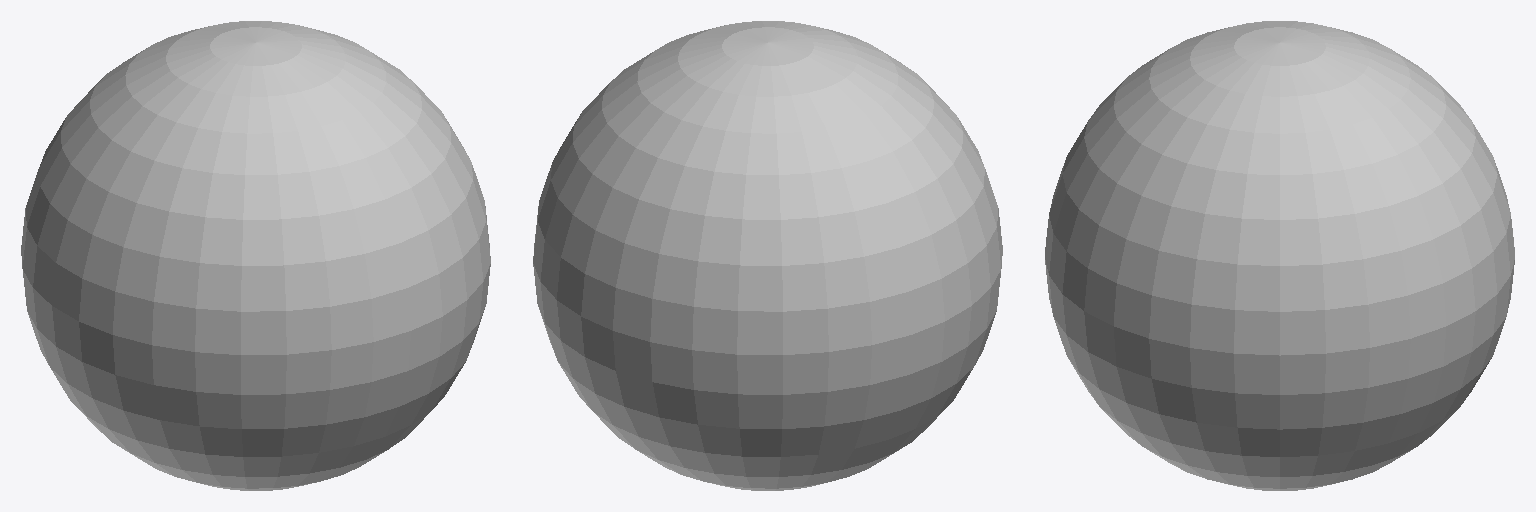
Rendered from pelota.obj.
3 renders of one model, left to right at view 1: azimuth 30°, elevation 25°; view 2: azimuth 150°, elevation 25°; view 3: azimuth 270°, elevation 25°, orthographic.
Parts seen in each view (by area): view 1: Sphere001; view 2: Sphere001; view 3: Sphere001.
Boxes of the visible parts, x1,y1,x2,y2 form: Sphere001: [21, 21, 490, 490]; Sphere001: [533, 21, 1002, 490]; Sphere001: [1045, 21, 1514, 490].
Bounding box in the file's own units: 56 × 56 × 56.